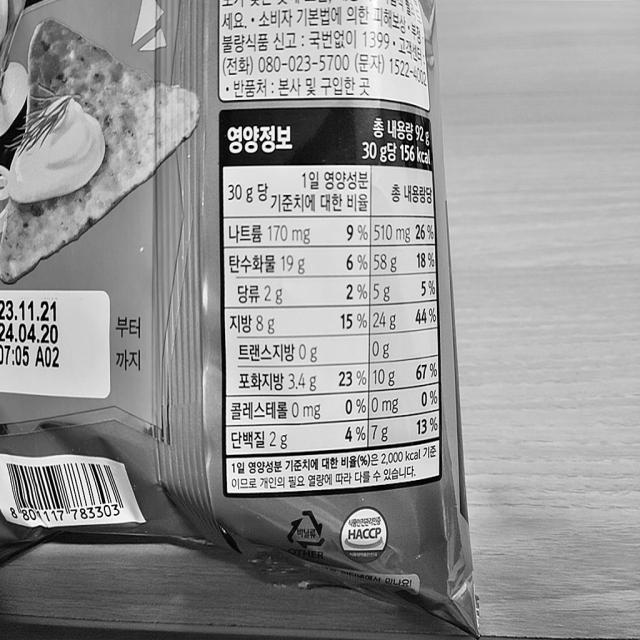Nutrition Label: (206, 88, 457, 510)
